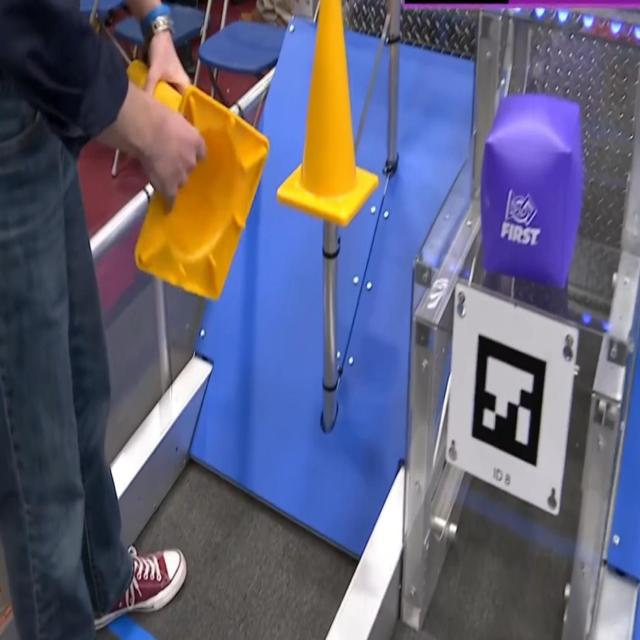frc_cone: (119, 51, 267, 303), (278, 0, 380, 228)
frc_cube: (482, 95, 584, 288)
